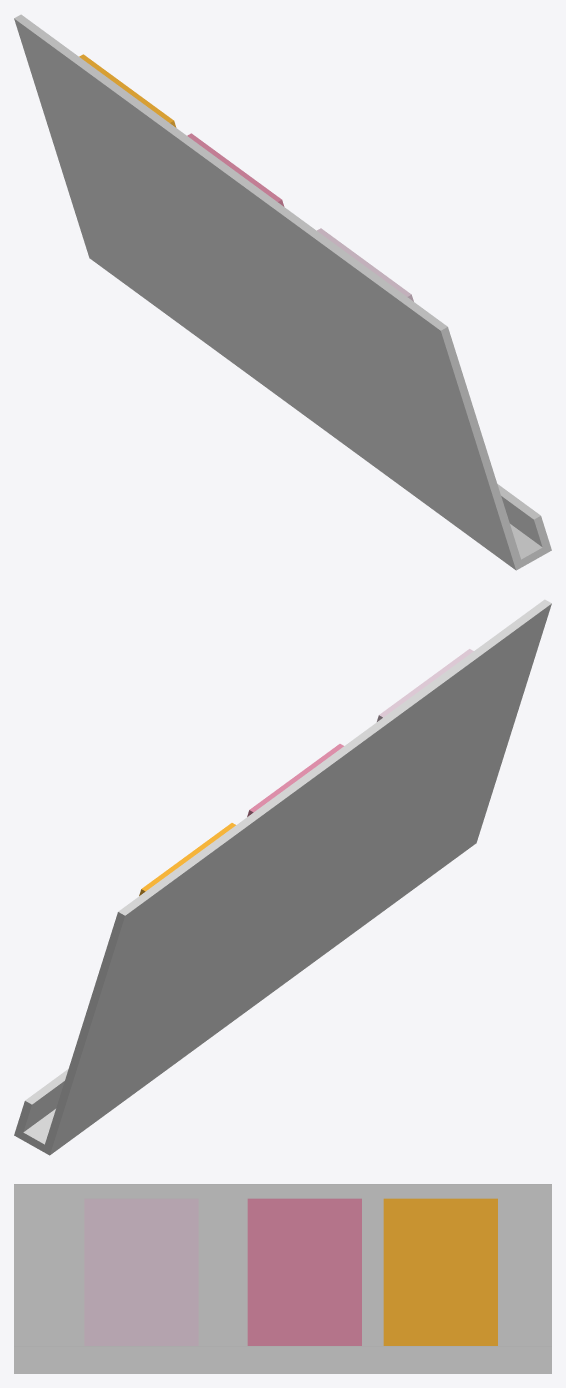
The model's file is plank_animation.glb.
3 views of the same model, one above another, from view 1: azimuth 30°, elevation 25°; view 2: azimuth 150°, elevation 25°; view 3: azimuth 270°, elevation 25° (orthographic). The views are drawn at different scales.
Visible parts, largest first — view 1: Cube.013; view 2: Cube.013; view 3: Cube.013.
Part boxes in pixels (<box>): Cube.013: <box>14,14,551,570</box>; Cube.013: <box>14,599,551,1155</box>; Cube.013: <box>14,1184,551,1373</box>.
Size of the model in its own units: 0.1486 by 0.3327 by 0.988.
